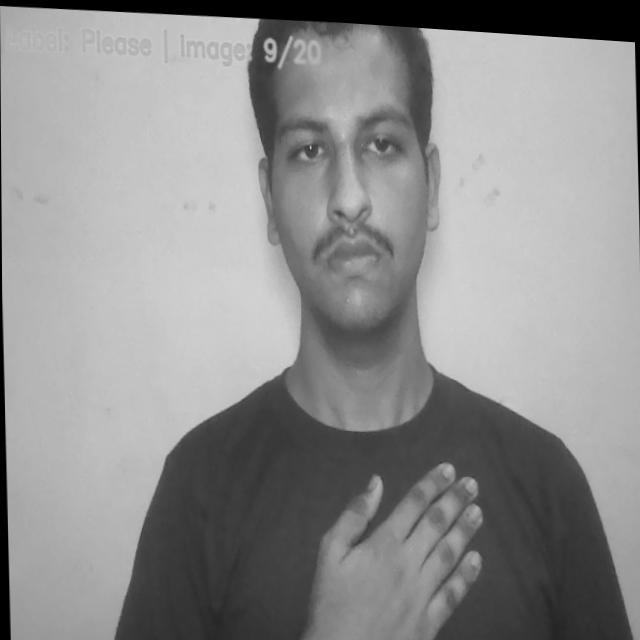Please: (307, 447, 489, 640)
